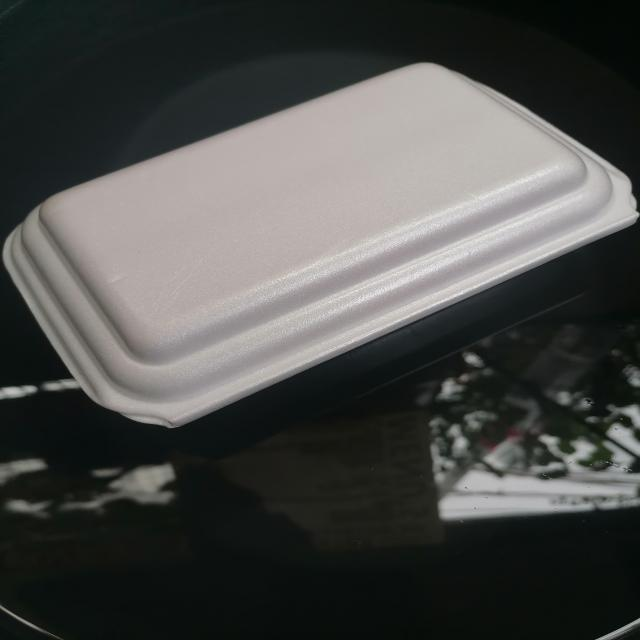Styrofoam Container: (0, 38, 640, 448)
